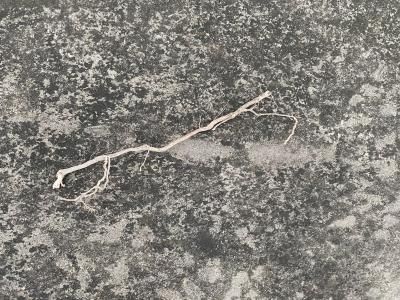Root: (53, 91, 297, 202)
